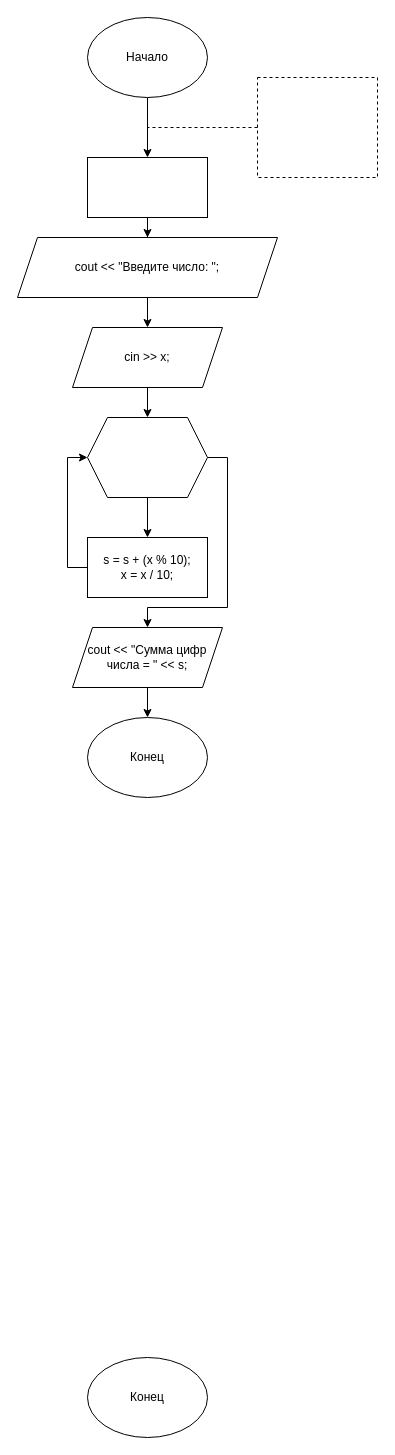
Image size: 395x1455. Some labels were removed from this diagram. Here are the shapes that lost their labels. From the top down, the centre of each, then its label:
the point at 317,127: #include<iostream> using namespace std; int main(){ setlocale(LC_ALL, "RUS");}
the point at 147,187: int s = 0, x;
the point at 147,457: while (x > 0)
